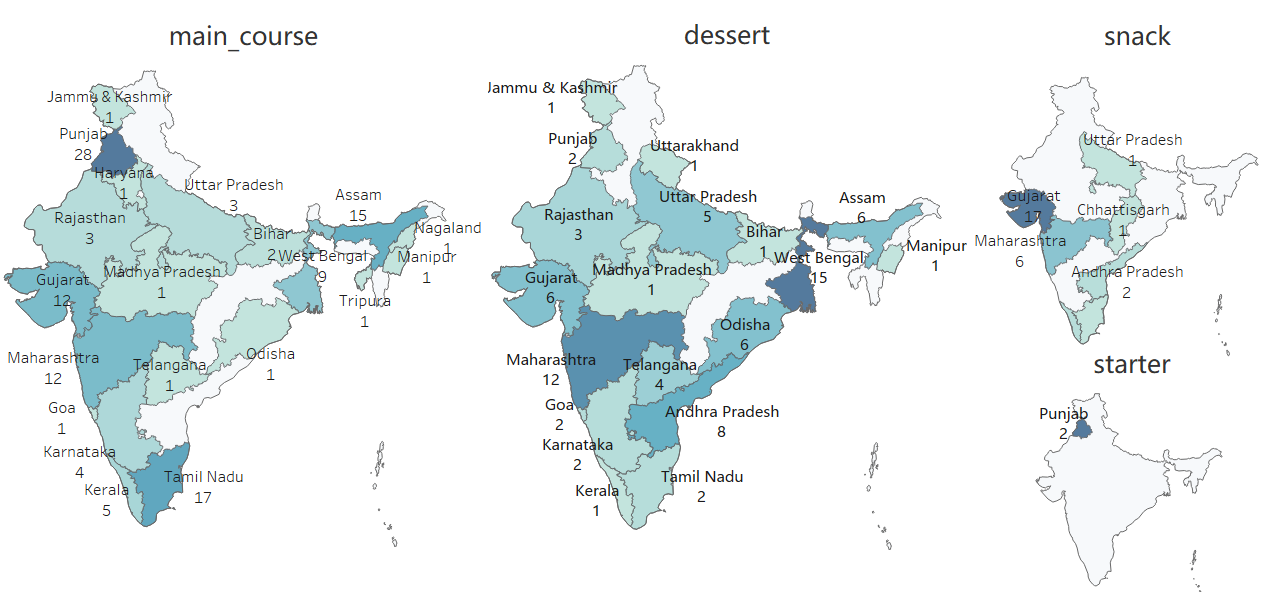

What the dashboard file says about the page in this screenshot:
{"tool":"tableau","page":{"name":"各州美食类型","canvas":[1000,1000],"units":"permille","ordinal":2},"visuals":[{"type":"worksheet","title":"dessert","mark":"Automatic","box":[287.3,5.8,307.2,902.4]},{"type":"worksheet","title":"main_course","mark":"Automatic","box":[0,15.1,286.7,902.4]},{"type":"worksheet","title":"snack","mark":"Automatic","box":[583,16.3,210.6,414.6]},{"type":"worksheet","title":"starter","mark":"Automatic","box":[570.3,379.8,210,291.5]}]}

Visuals, with their boxes on the dashboard's canvas, which has no fixed pixel size, in thousandths of its width and height (x1, y1, x2, y2). These are canvas units, not pixel positions in the 1272x603 screenshot, which may show the page scaled, cropped or inside an application window:
"dessert" worksheet: (287,6,594,908)
"main_course" worksheet: (0,15,287,918)
"snack" worksheet: (583,16,794,431)
"starter" worksheet: (570,380,780,671)
